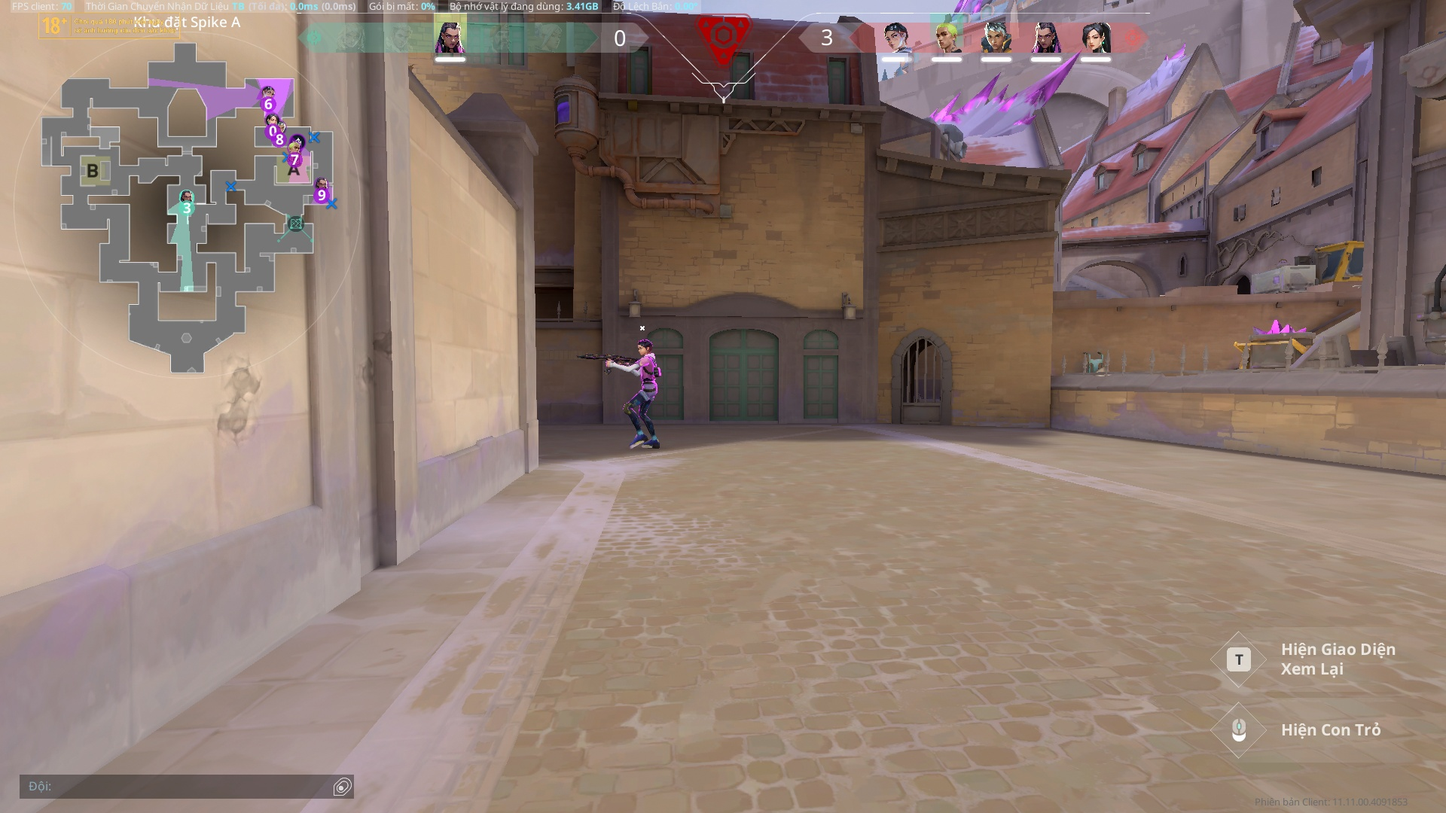body: (636, 356, 663, 388)
head: (636, 339, 656, 355)
